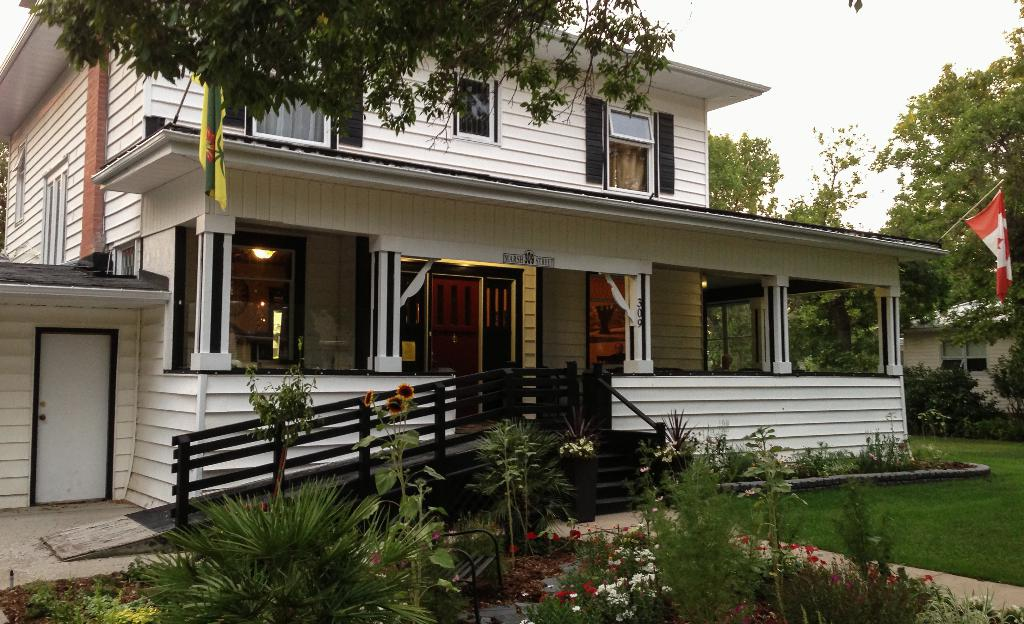Window: (249, 58, 328, 139), (600, 97, 657, 198), (451, 72, 502, 146)
